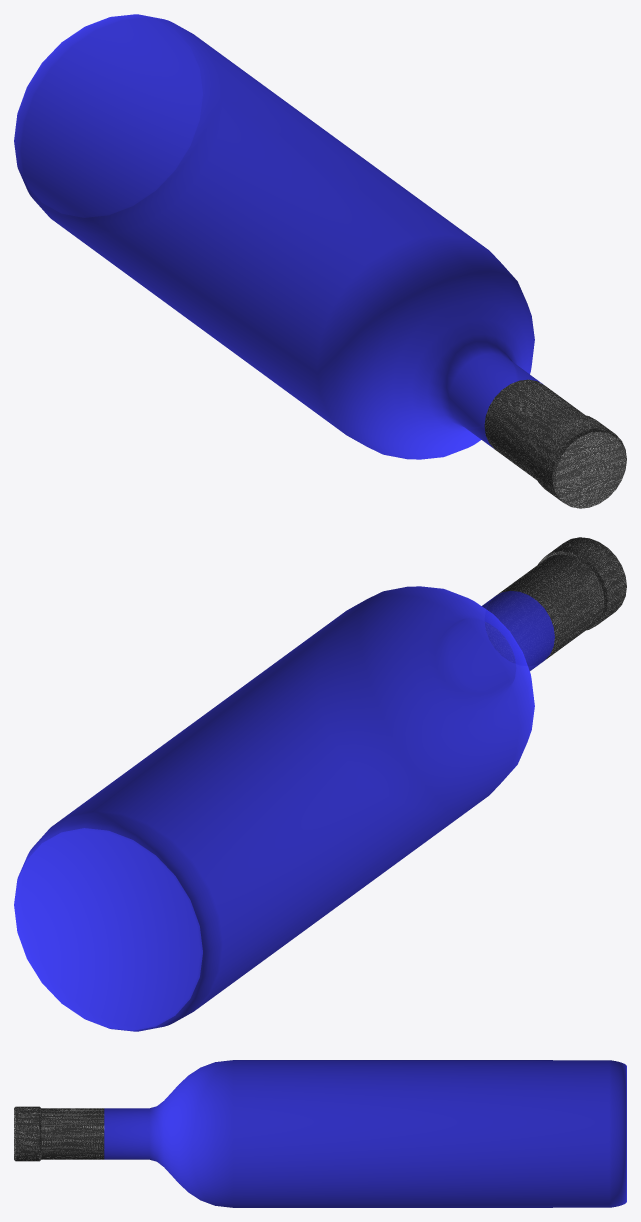
The model's file is model_scale.obj.
3 views of the same model, one above another, from view 1: azimuth 30°, elevation 25°; view 2: azimuth 150°, elevation 25°; view 3: azimuth 270°, elevation 25° (orthographic). The views are drawn at different scales.
Visible parts, largest first — view 1: mesh1_mesh1-geometry; view 2: mesh1_mesh1-geometry; view 3: mesh1_mesh1-geometry.
Boxes of the visible parts, x1,y1,x2,y2 form: mesh1_mesh1-geometry: (14, 14, 626, 508); mesh1_mesh1-geometry: (14, 537, 626, 1031); mesh1_mesh1-geometry: (14, 1060, 626, 1207).
Bounding box in the file's own units: 0.0702 × 0.0702 × 0.29.
